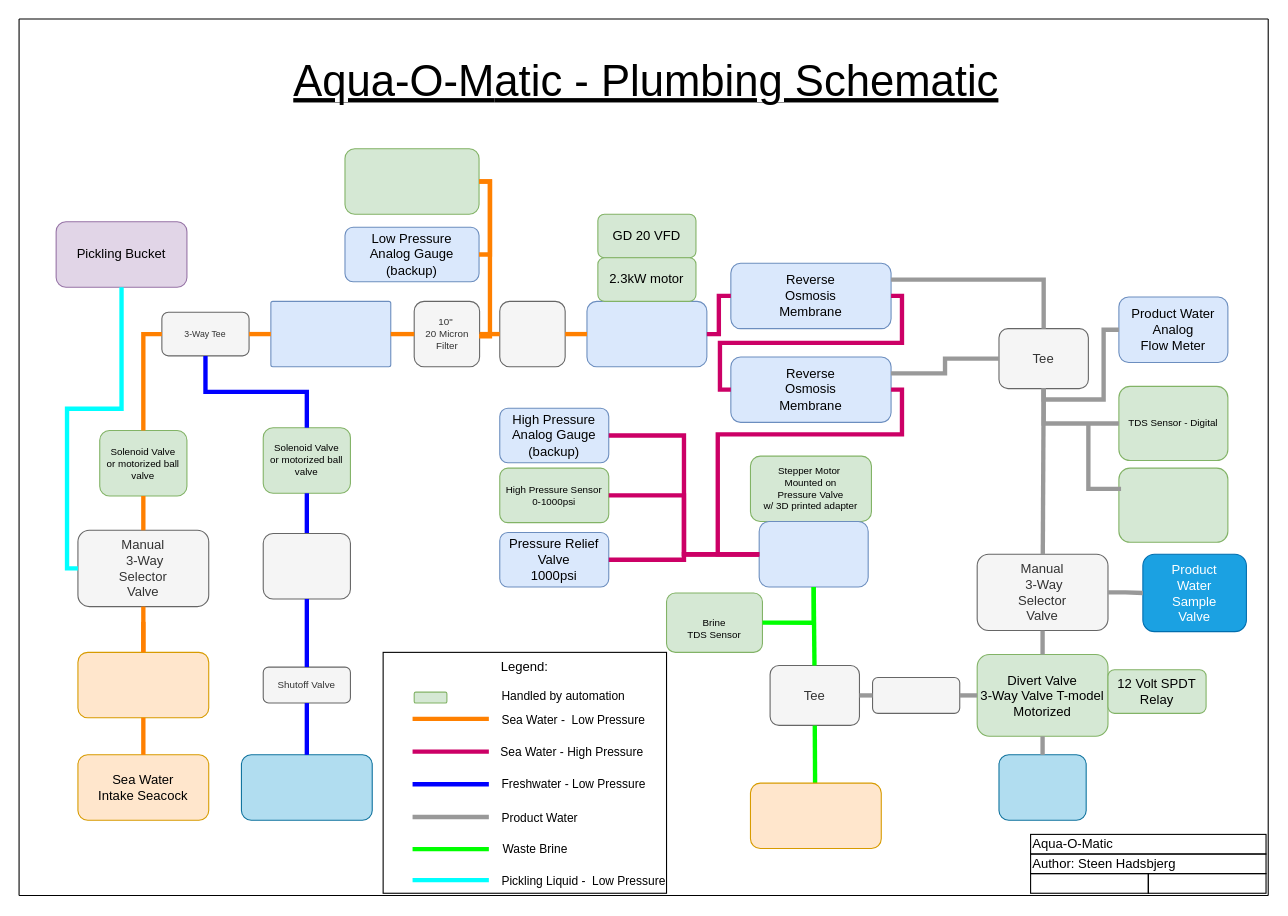
Image size: 1288x916. Some labels were removed from this diagram. Each missing label, with the centre of its shape:
10" 5 Micron Filter: point (532, 333)
10" Carbon Filter: point (306, 565)
22 Oct 2025: point (1089, 883)
Boost Pump Shurflo: point (330, 333)
Danfoss App High Pressure Pump: point (646, 333)
Freshwater Tank: point (1042, 787)
High Pressure Needle Valve: point (813, 553)
Low Pressure Sensor 0-50psi: point (411, 181)
One-way valve: point (915, 694)
Overboard Seacock: point (815, 815)
Pressurized Freshwater System: point (306, 787)
Product Flowmeter: point (1173, 504)
Revision B: point (1206, 883)
Sea Water Strainer: point (143, 684)
